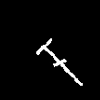double_crochet: (36, 39, 82, 85)
